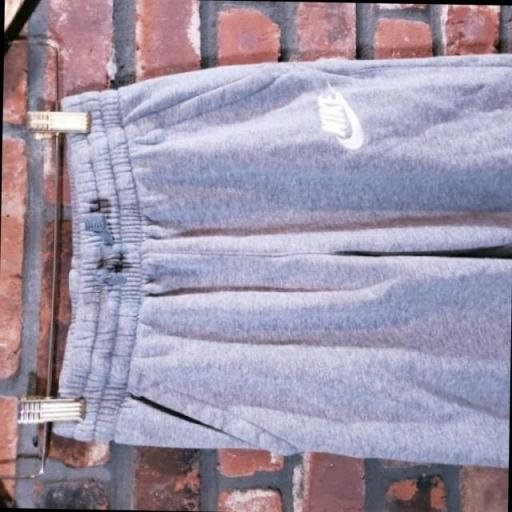Nike: (332, 84, 365, 151), (316, 89, 348, 135)
